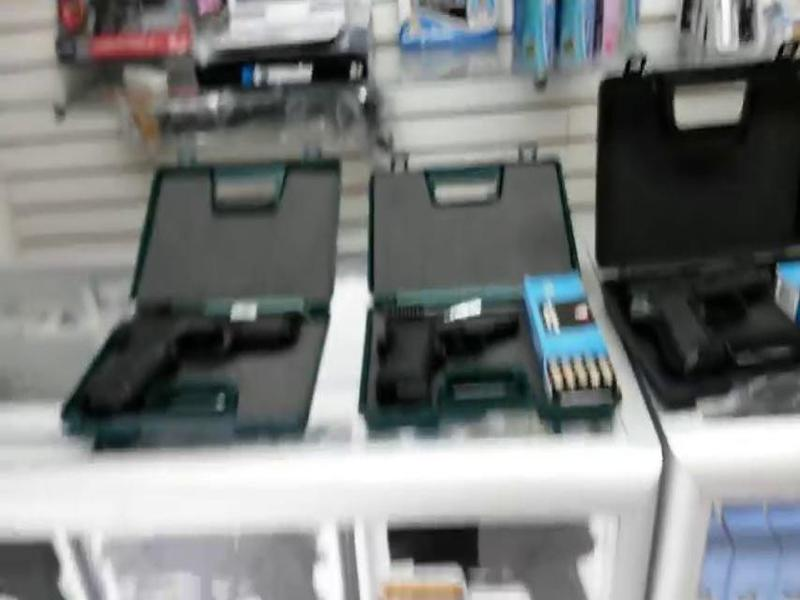Pistola: (87, 303, 316, 422), (626, 257, 800, 387), (358, 300, 534, 409)
